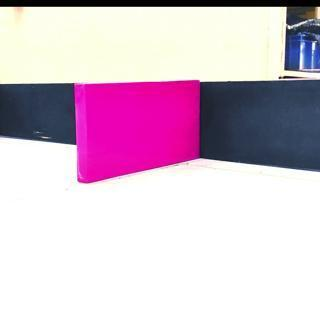xparking: (76, 82, 196, 170)
